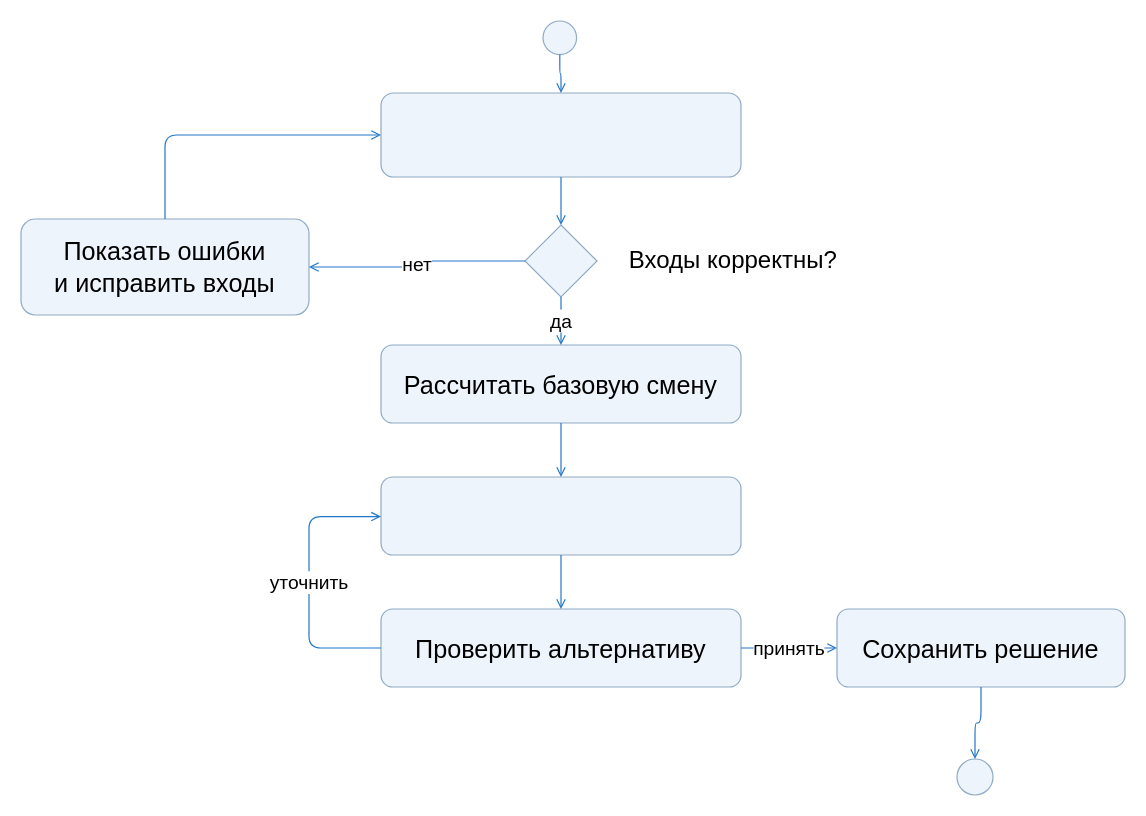
Image size: 1146x816. Some labels were removed from this diagram. The centre of each missing label's shape, as x and y in pixels:
"Выбрать набор данных" goes at point 560,134.
"Изменить параметры" goes at point 560,515.
